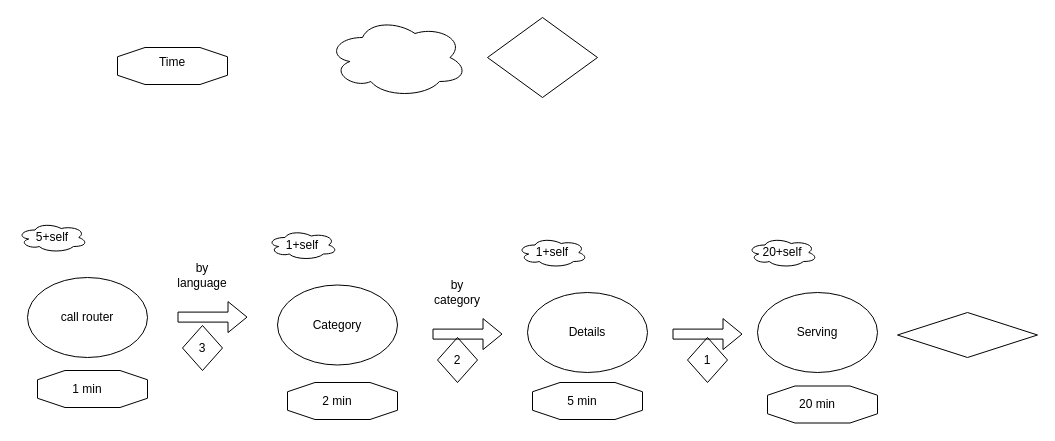
This 1055x441 diagram has some shape labels left out. The shapes that lost their labels are listed below. From the top down, each one's centre as x and y in pixels, then its label:
At point 397,57: "parallel service points".
At point 542,57: "how many branchings".
At point 967,335: "Customer served".
